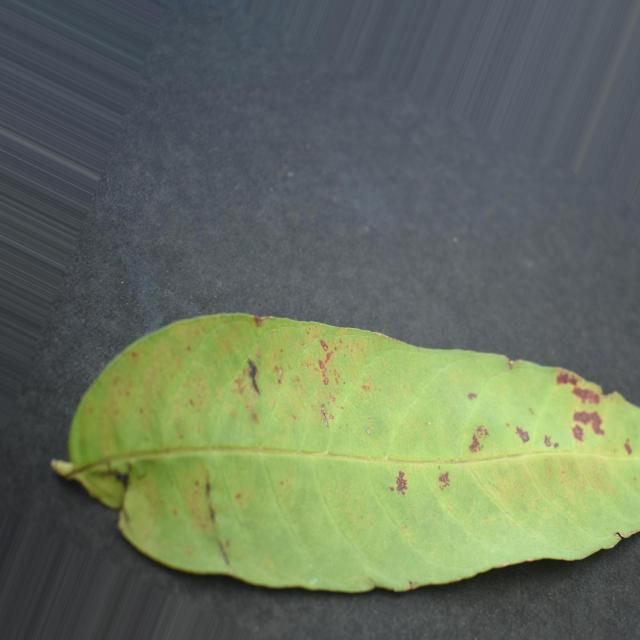Dot: (51, 315, 640, 592)
